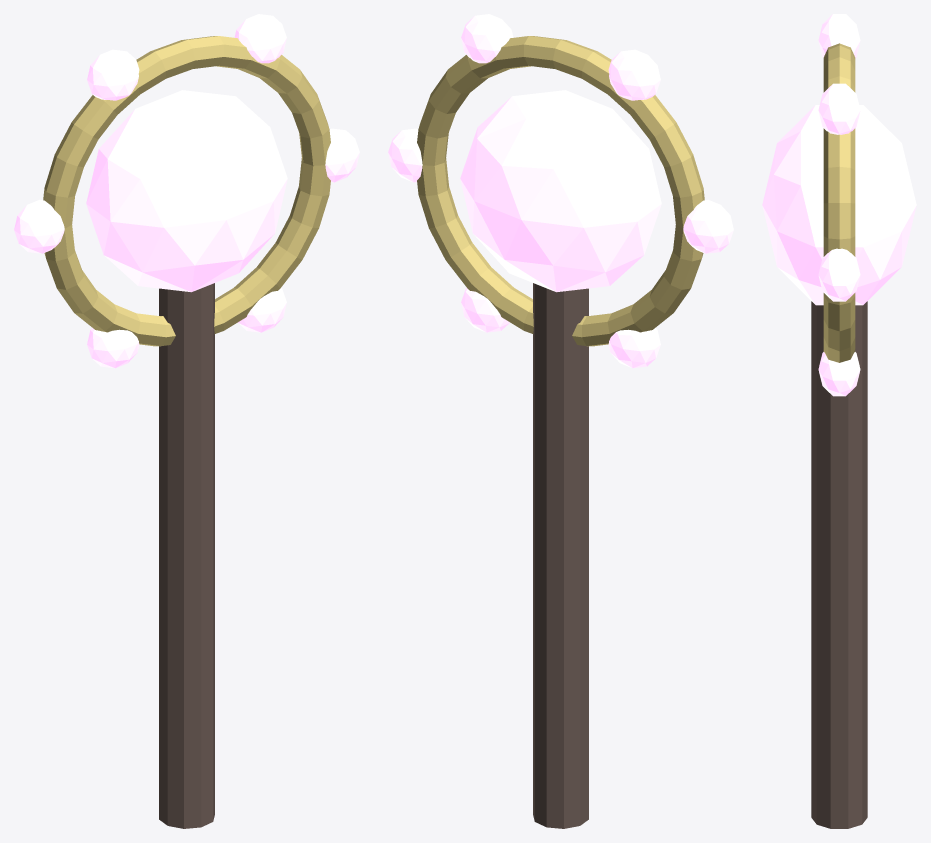
Rendered from sunseed-staff.glb.
3 views of the same model, side by side, from view 1: azimuth 30°, elevation 25°; view 2: azimuth 150°, elevation 25°; view 3: azimuth 270°, elevation 25° (orthographic). The views are drawn at different scales.
Visible parts, largest first — view 1: WandCore, WandShaft, WandSunRing, WandSunRay_2, WandSunRay_3, WandSunRay_1, WandSunRay_4, WandSunRay_0, WandSunRay_5; view 2: WandCore, WandShaft, WandSunRing, WandSunRay_2, WandSunRay_3, WandSunRay_1, WandSunRay_4, WandSunRay_0, WandSunRay_5; view 3: WandShaft, WandCore, WandSunRing, WandSunRay_0, WandSunRay_1, WandSunRay_5, WandSunRay_2.
Boxes of the visible parts, x1,y1,x2,y2 form: WandCore: (86,90,287,292); WandShaft: (159,283,214,828); WandSunRing: (43,36,330,346); WandSunRay_2: (87,49,139,100); WandSunRay_3: (14,199,64,253); WandSunRay_1: (234,14,286,63); WandSunRay_4: (87,328,139,368); WandSunRay_0: (325,128,359,182); WandSunRay_5: (238,288,286,332); WandCore: (460,90,661,292); WandShaft: (533,283,588,828); WandSunRing: (417,36,704,346); WandSunRay_2: (608,49,660,100); WandSunRay_3: (683,199,733,253); WandSunRay_1: (461,14,513,63); WandSunRay_4: (608,328,660,368); WandSunRay_0: (388,128,422,182); WandSunRay_5: (461,288,509,332); WandShaft: (811,301,867,828); WandCore: (762,105,916,305); WandSunRing: (823,43,855,362); WandSunRay_0: (818,248,860,301); WandSunRay_1: (818,83,860,134); WandSunRay_5: (818,352,860,396); WandSunRay_2: (818,14,860,57).
Size of the model in its own units: 1.09 by 2.41 by 0.44.
